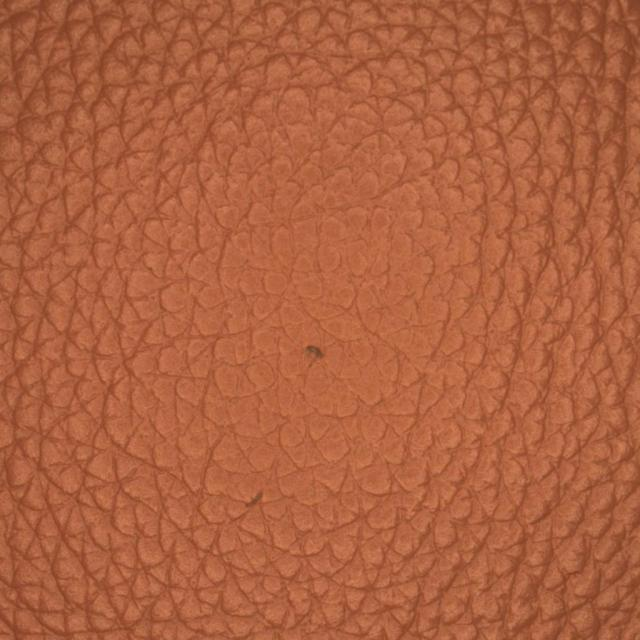pinhole: (225, 300, 425, 412), (179, 450, 346, 562)
